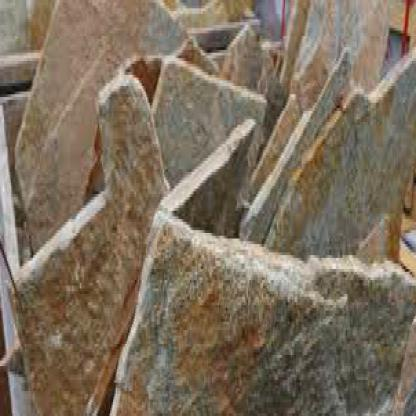Metamorphic_Quartize: (1, 53, 160, 413), (100, 244, 415, 415)
